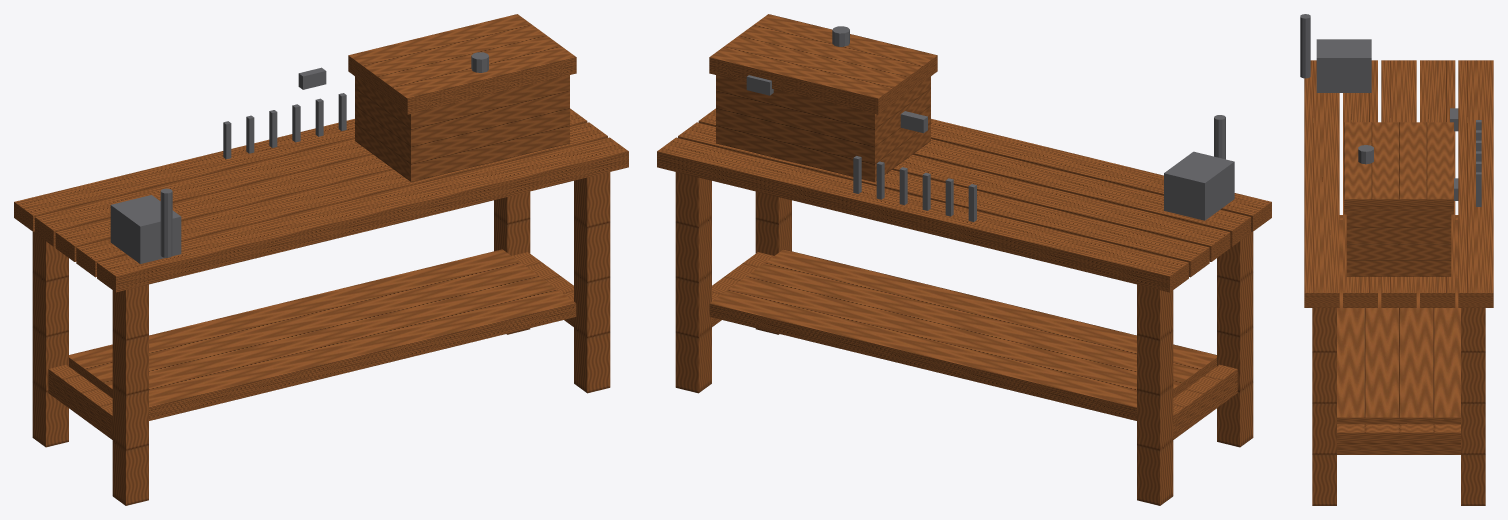
File: vineyard-work-bench.glb
3 renders of one model, left to right at view 1: azimuth 30°, elevation 25°; view 2: azimuth 150°, elevation 25°; view 3: azimuth 270°, elevation 25°, orthographic. The views are drawn at different scales.
Visible parts, largest first — view 1: vineyard-work-bench-timber, lid/timber, vineyard-work-bench-dark; view 2: vineyard-work-bench-timber, lid/timber, vineyard-work-bench-dark; view 3: vineyard-work-bench-timber, lid/timber, vineyard-work-bench-dark, lid/dark.
Boxes of the visible parts, bbox=[...] form: vineyard-work-bench-timber: bbox=[14, 75, 628, 505]; lid/timber: bbox=[348, 14, 576, 114]; vineyard-work-bench-dark: bbox=[110, 67, 346, 263]; vineyard-work-bench-timber: bbox=[657, 75, 1271, 505]; lid/timber: bbox=[709, 14, 937, 114]; vineyard-work-bench-dark: bbox=[746, 75, 1234, 221]; vineyard-work-bench-timber: bbox=[1304, 60, 1493, 505]; lid/timber: bbox=[1344, 122, 1453, 214]; vineyard-work-bench-dark: bbox=[1300, 14, 1481, 206]; lid/dark: bbox=[1358, 145, 1373, 164].
Size of the model in its own units: 2 by 1.25 by 0.703.
Materials: 2 (1 with a texture image).
